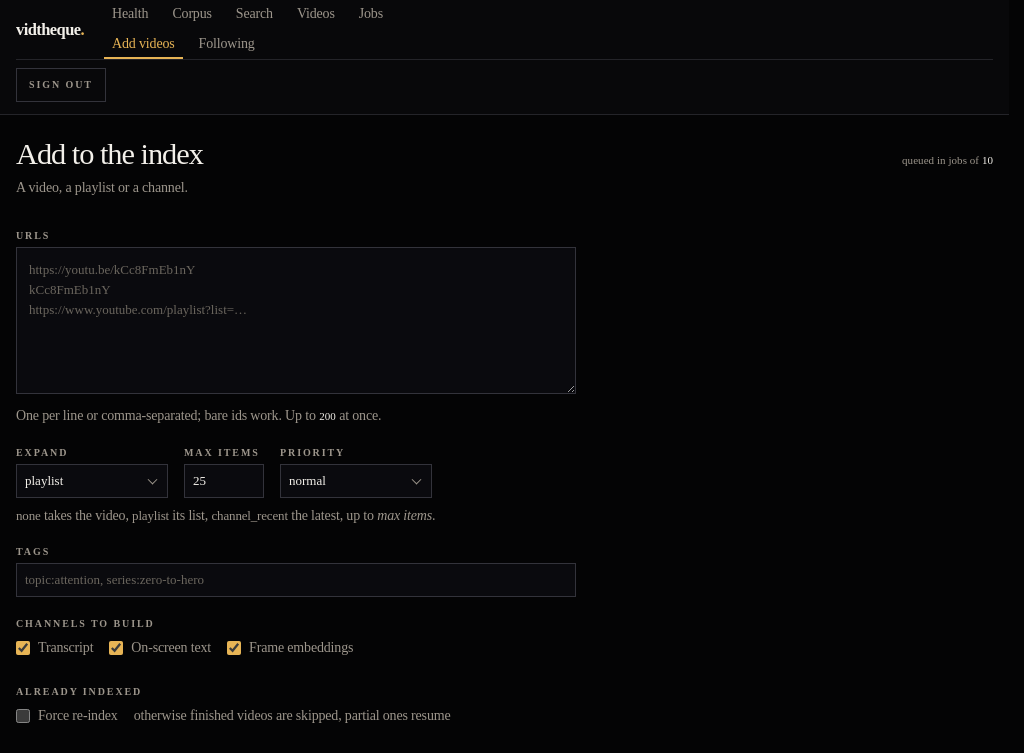
Test: the index form › the refusals › prints the limiter's refusal without inventing a delay of its own
In the text box labelled "URLs": (296, 321) [16,247,576,394], type "kCc8FmEb1nY"
(page scrolled)
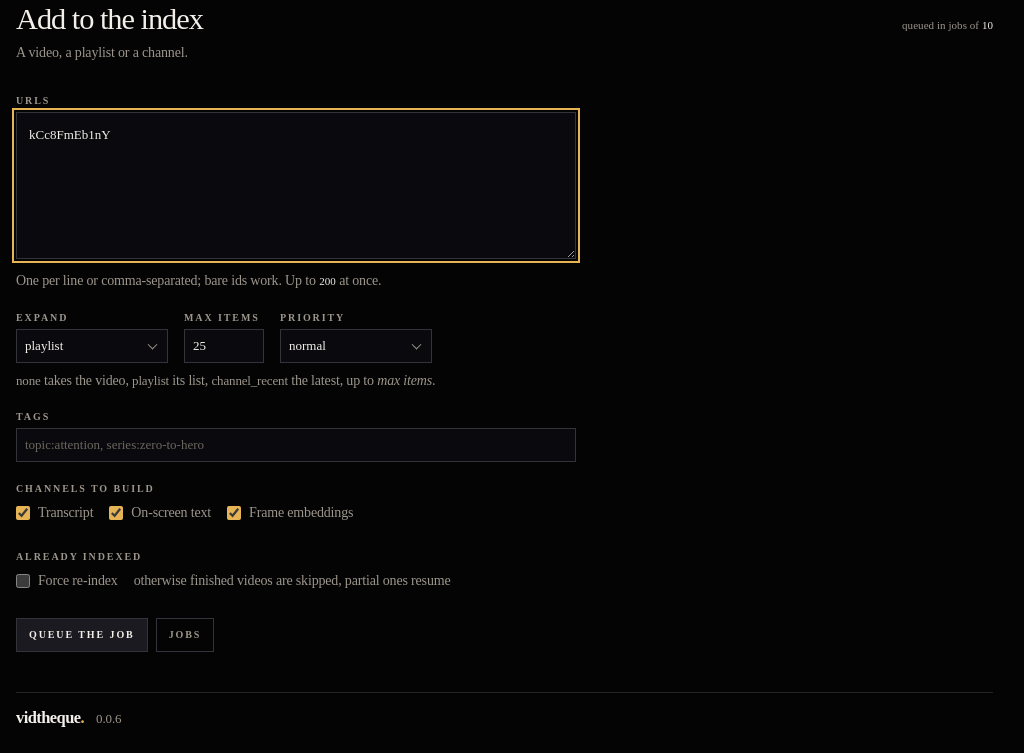
Click the button "Queue the job": (82, 635) [16,618,148,652]
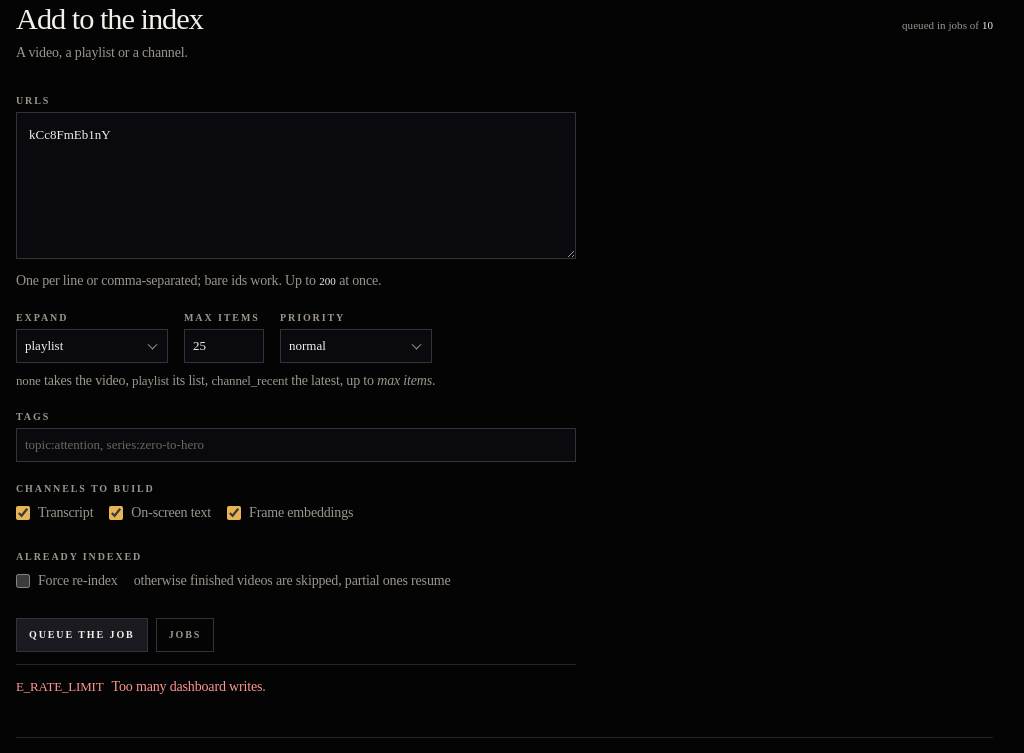
Result: the text "Too many dashboard writes." is shown at [112,677,266,697]
Result: the text "E_RATE_LIMIT" is shown at [16,678,104,696]
